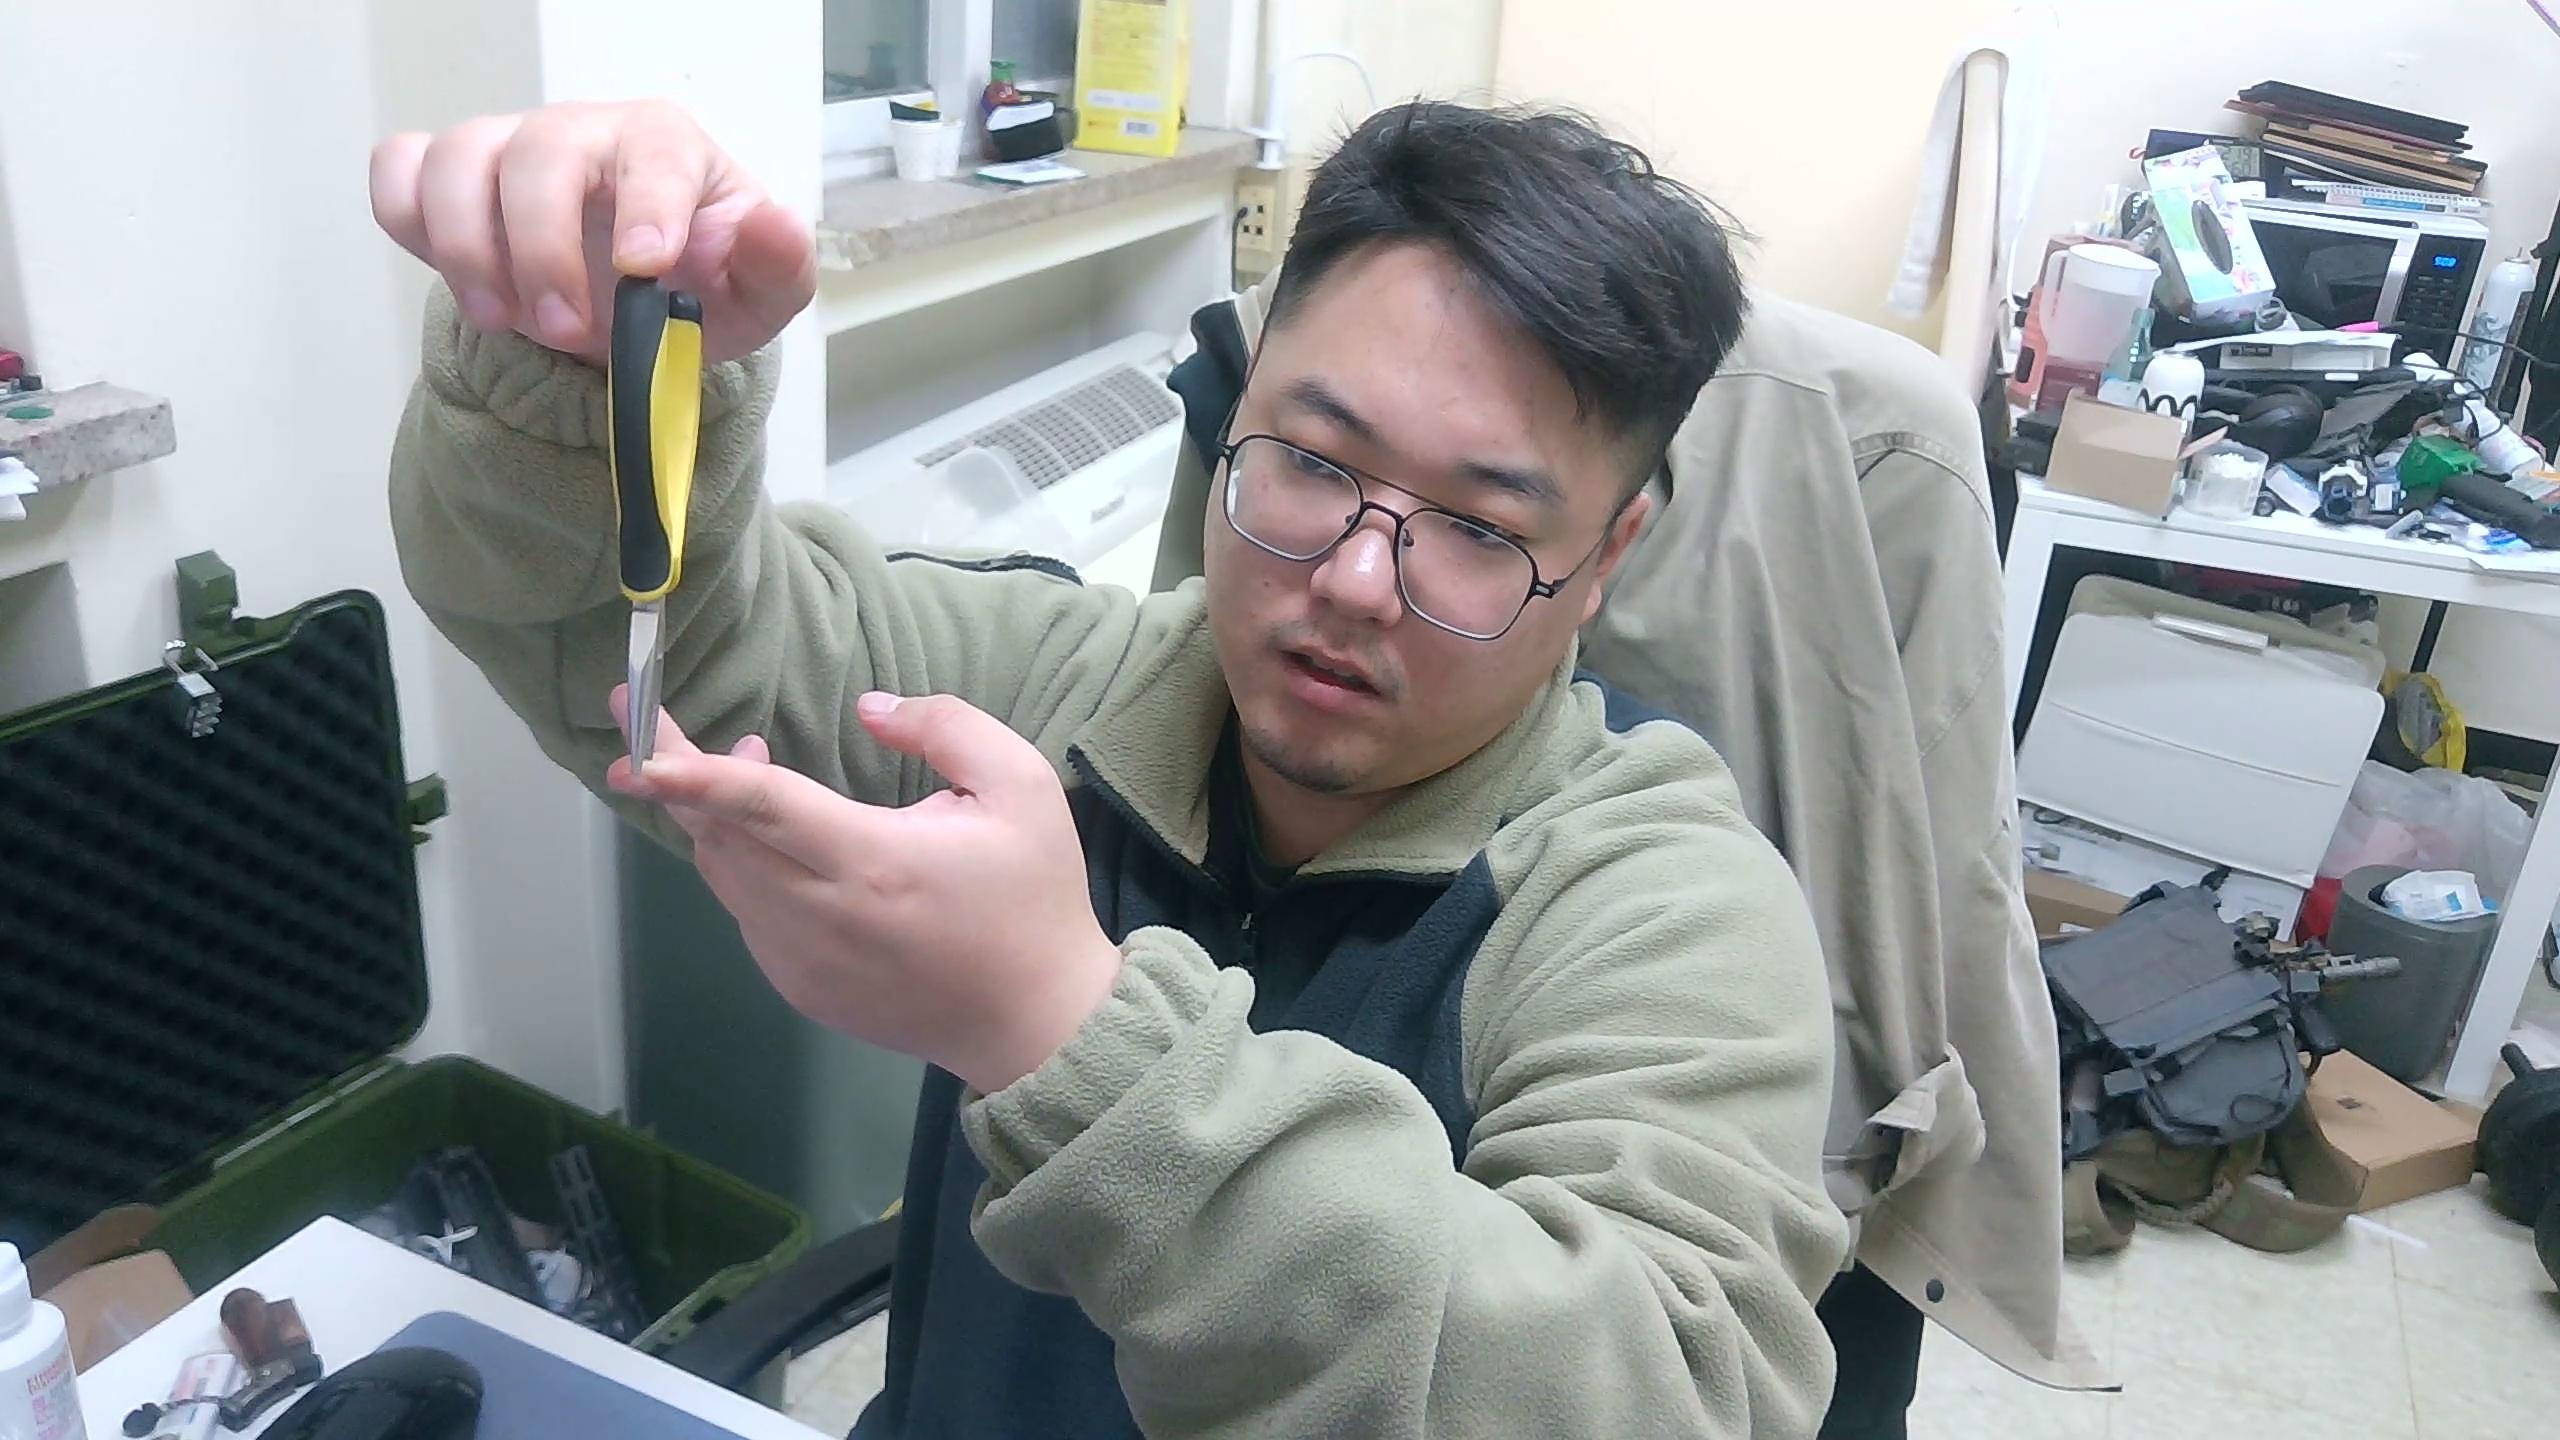earphone: (605, 271, 709, 774)
